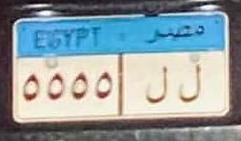5: (44, 70, 66, 104), (19, 71, 41, 104), (93, 71, 115, 102), (69, 69, 90, 101)
laam: (176, 61, 205, 108), (143, 61, 169, 106)
